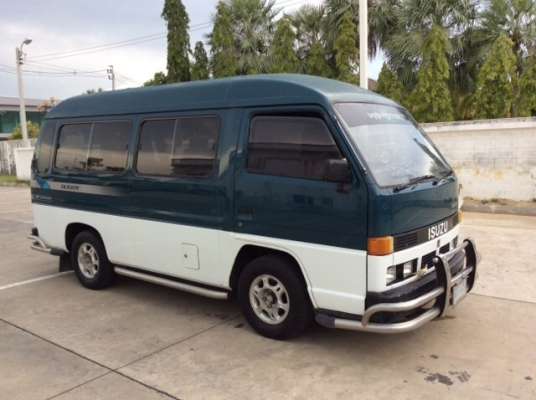van: (27, 71, 481, 341)
